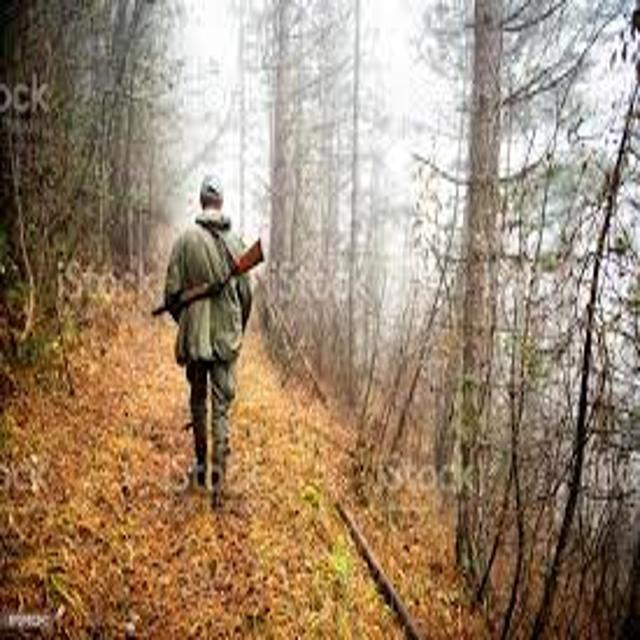gun: (128, 219, 282, 339)
poacher: (121, 154, 302, 547)
